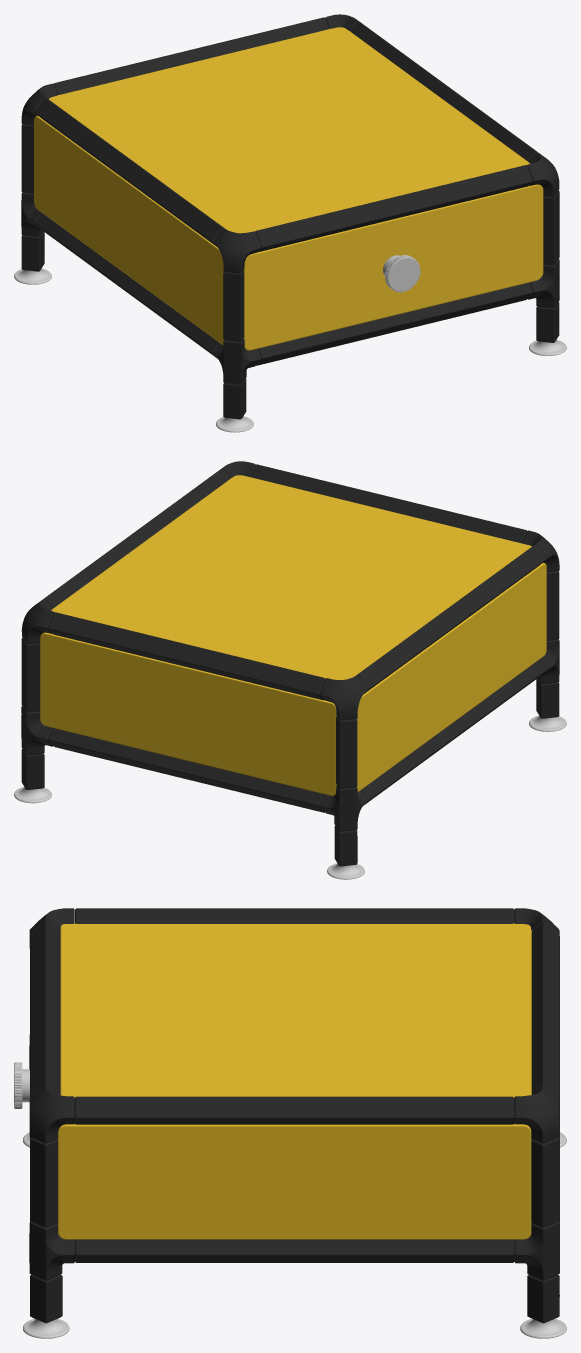
3 renders of one model, top to bottom at view 1: azimuth 30°, elevation 25°; view 2: azimuth 150°, elevation 25°; view 3: azimuth 270°, elevation 25°, orthographic. The views are drawn at different scales.
Visible parts, largest first — view 1: 329x374x79; view 2: 329x374x79; view 3: 329x374x79.
Part boxes in pixels (left/top/right/bottom): 329x374x79: left=14, top=14, right=566, bottom=432; 329x374x79: left=14, top=461, right=566, bottom=879; 329x374x79: left=14, top=908, right=566, bottom=1338.
Size of the model in its own units: 0.419 by 0.2184 by 0.4707.
